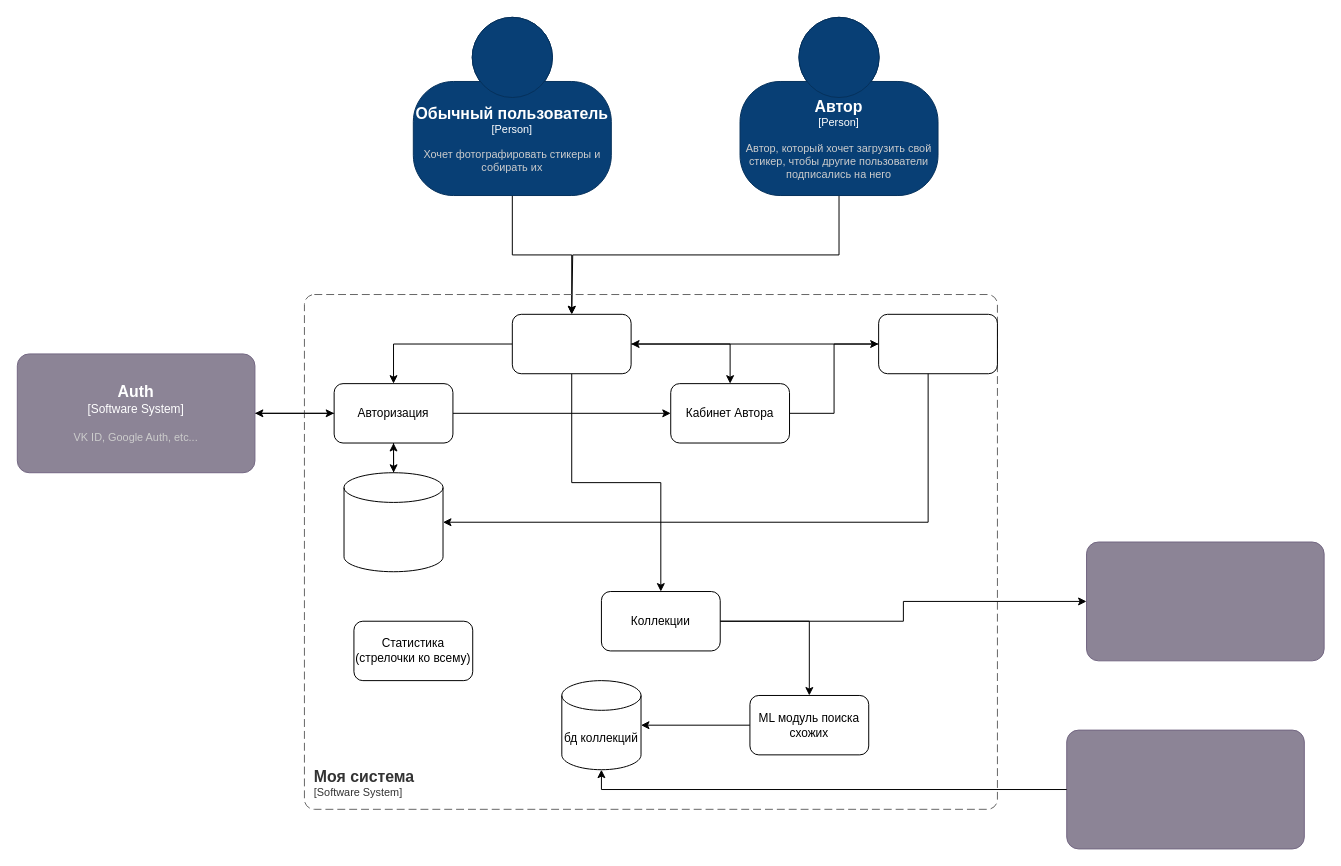
Image size: 1341x866. Some labels were removed from this diagram. Each missing label, with the centre of its shape:
"мобильное приложение" goes at point (571, 343).
"Модуль рассылки оповещений" goes at point (937, 343).
"Пользователи" goes at point (393, 522).
"Сервис карт [Software System] Яндекс карты, 2Гис..." goes at point (1205, 601).
"Хранилище медиа [Software System] Яндекс С3" goes at point (1185, 789).
